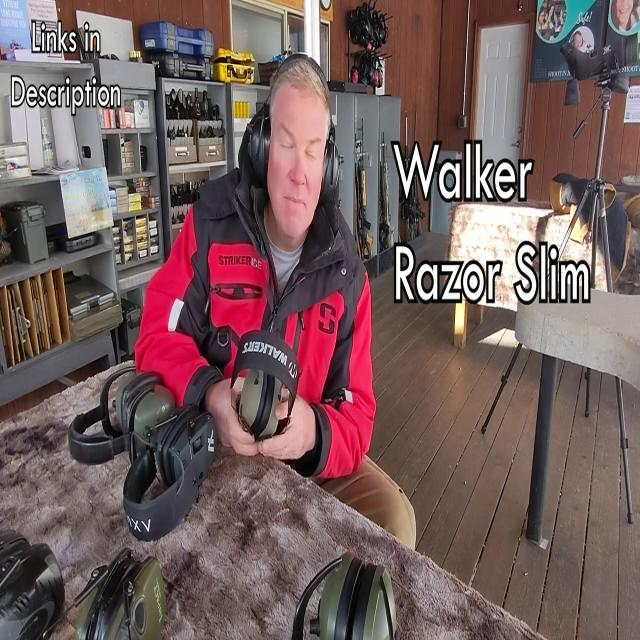earmuff: (245, 103, 273, 183), (320, 132, 346, 206)
